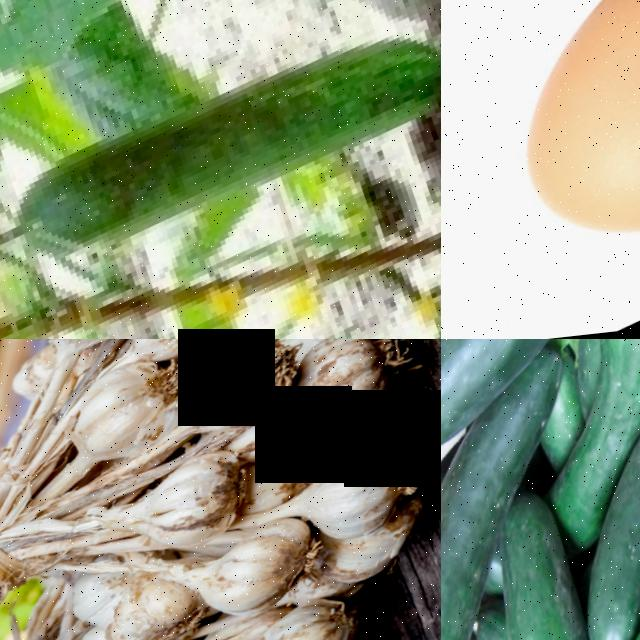cucumber: (6, 0, 441, 298), (441, 339, 640, 467), (441, 467, 544, 640), (462, 542, 640, 640)
egg_: (466, 0, 640, 302)
garlic: (115, 447, 259, 580), (191, 514, 332, 640), (59, 351, 192, 482), (289, 446, 426, 572), (169, 339, 308, 459), (286, 339, 420, 444), (93, 562, 207, 640), (243, 596, 359, 640), (120, 339, 236, 381), (18, 339, 153, 367)
